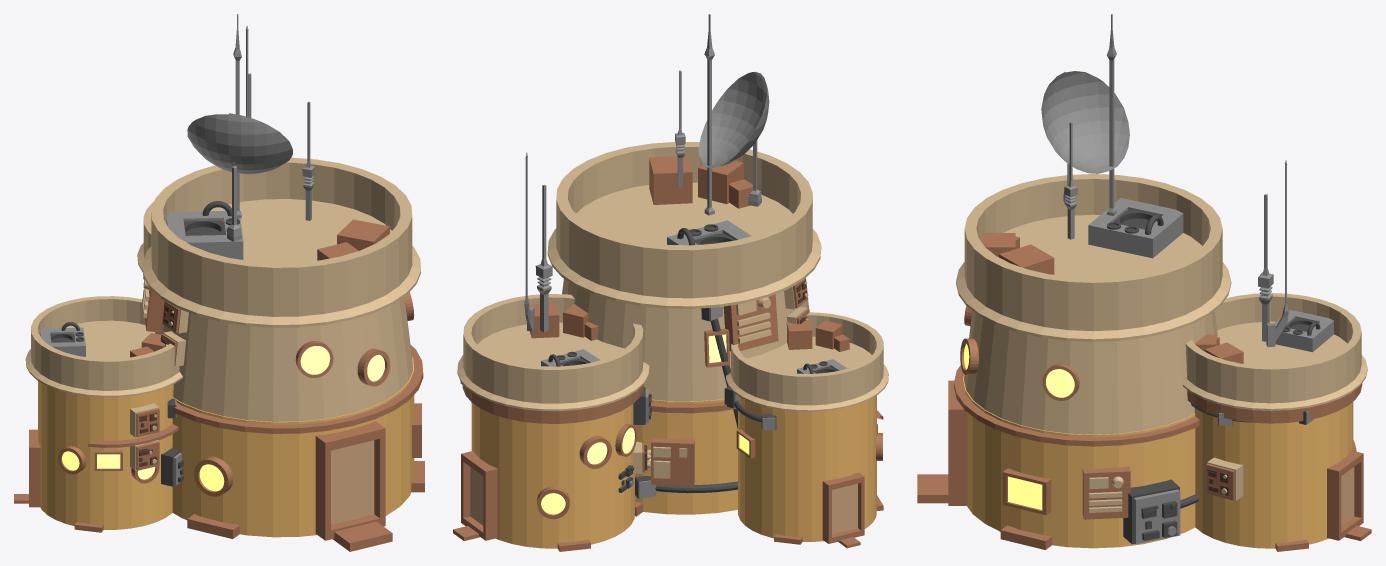
The model's file is nomad_building_12.fbx.
3 renders of one model, left to right at view 1: azimuth 30°, elevation 25°; view 2: azimuth 150°, elevation 25°; view 3: azimuth 270°, elevation 25°, orthographic.
Visible parts, largest first — view 1: B12_M_Crown_RoofDeck_Ringwall, B12_M_Drum1, B12_M_Drum0, B12_A2_Drum0, B12_A2_Crown_RoofDeck_Ringwall, B12_M_Dish0_AntennaDish_Reflector, B12_M_Door_Door_Frame, B12_M_Door_Door_Leaf, B12_M_Ring00_TowerTrim_BandThin, B12_M_Crown_RoofVent_Housing, B12_M_Step_TowerTrim_DoorStep, B12_M_Crown_RoofDeck_BlockLarge (+15 smaller); view 2: B12_M_Crown_RoofDeck_Ringwall, B12_A1_Drum0, B12_A2_Drum0, B12_A1_Crown_RoofDeck_Ringwall, B12_M_Drum1, B12_A2_Crown_RoofDeck_Ringwall, B12_M_Drum0, B12_M_Dish0_AntennaDish_Reflector, B12_A1_Ring00_TowerTrim_BandTall, B12_A1_Door_Door_Frame, B12_M_Crown_RoofDeck_BlockLarge, B12_M_Gear1_PanelBox_Body (+17 smaller); view 3: B12_M_Crown_RoofDeck_Ringwall, B12_M_Drum1, B12_M_Drum0, B12_A1_Drum0, B12_A1_Crown_RoofDeck_Ringwall, B12_M_Dish0_AntennaDish_Reflector, B12_M_Crown_RoofVent_Housing, B12_M_Ring00_TowerTrim_BandThin, B12_A1_Door_Door_Frame, B12_M_Door_Door_Frame, B12_A1_Ring00_TowerTrim_BandTall, B12_M_Gear5_PanelBox_Body001 (+16 smaller).
Part boxes in pixels (x1,y1,x2,y2): B12_M_Crown_RoofDeck_Ringwall: [142, 157, 420, 327]; B12_M_Drum1: [155, 297, 412, 421]; B12_M_Drum0: [172, 357, 414, 537]; B12_A2_Drum0: [38, 381, 173, 529]; B12_A2_Crown_RoofDeck_Ringwall: [25, 296, 182, 397]; B12_M_Dish0_AntennaDish_Reflector: [187, 113, 292, 174]; B12_M_Door_Door_Frame: [315, 421, 385, 540]; B12_M_Door_Door_Leaf: [331, 440, 374, 524]; B12_M_Ring00_TowerTrim_BandThin: [173, 345, 423, 433]; B12_M_Crown_RoofVent_Housing: [166, 210, 243, 259]; B12_M_Step_TowerTrim_DoorStep: [332, 521, 392, 551]; B12_M_Crown_RoofDeck_BlockLarge: [337, 219, 389, 250]; B12_M_Crown_RoofDeck_Ringwall: [547, 142, 821, 308]; B12_A1_Drum0: [471, 403, 635, 548]; B12_A2_Drum0: [738, 395, 876, 541]; B12_A1_Crown_RoofDeck_Ringwall: [457, 294, 649, 411]; B12_M_Drum1: [562, 279, 809, 401]; B12_A2_Crown_RoofDeck_Ringwall: [726, 312, 888, 411]; B12_M_Drum0: [635, 398, 737, 514]; B12_M_Dish0_AntennaDish_Reflector: [698, 71, 769, 168]; B12_A1_Ring00_TowerTrim_BandTall: [462, 384, 643, 423]; B12_A1_Door_Door_Frame: [461, 451, 497, 540]; B12_M_Crown_RoofDeck_BlockLarge: [649, 155, 692, 204]; B12_M_Gear1_PanelBox_Body: [651, 437, 694, 486]; B12_M_Crown_RoofDeck_Ringwall: [956, 174, 1231, 341]; B12_M_Drum1: [964, 311, 1217, 434]; B12_M_Drum0: [962, 374, 1195, 548]; B12_A1_Drum0: [1194, 402, 1353, 548]; B12_A1_Crown_RoofDeck_Ringwall: [1183, 293, 1367, 410]; B12_M_Dish0_AntennaDish_Reflector: [1041, 71, 1129, 173]; B12_M_Crown_RoofVent_Housing: [1088, 198, 1183, 258]; B12_M_Ring00_TowerTrim_BandThin: [954, 365, 1199, 446]; B12_A1_Door_Door_Frame: [1327, 450, 1363, 540]; B12_M_Door_Door_Frame: [948, 380, 967, 505]; B12_A1_Ring00_TowerTrim_BandTall: [1187, 383, 1362, 423]; B12_M_Gear5_PanelBox_Body001: [1082, 466, 1130, 519].
Size of the model in its own units: 321 by 403 by 359.
